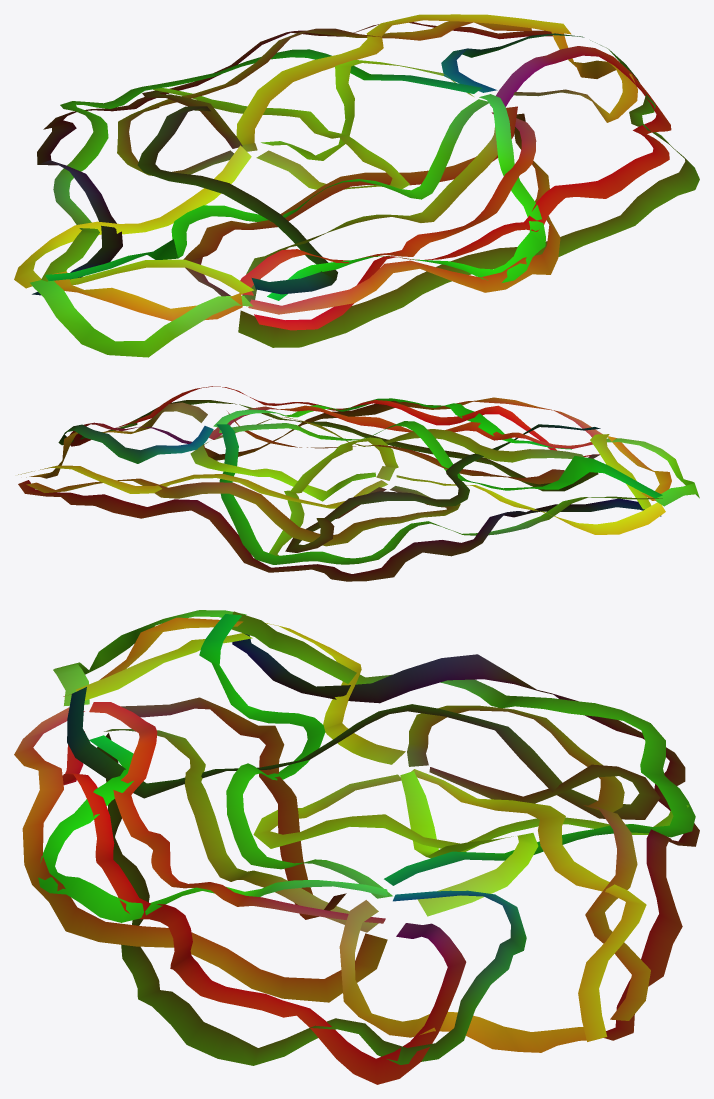
File: BodyVeins.fbx
The picture shows the model from 3 angles, top to bottom: view 1: azimuth 30°, elevation 25°; view 2: azimuth 150°, elevation 25°; view 3: azimuth 270°, elevation 25°; orthographic projection. The views are drawn at different scales.
Parts seen in each view (by area): view 1: Box001; view 2: Box001; view 3: Box001.
Part boxes in pixels (x1,y1,x2,y2): Box001: [14, 14, 699, 357]; Box001: [18, 386, 699, 581]; Box001: [14, 610, 699, 1084].
Bounding box in the file's own units: 1.37 × 0.2096 × 0.9598.
